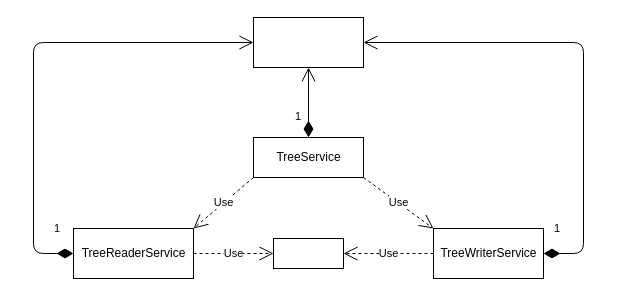
Image size: 618x296. Some labels were removed from this diagram. The shapes that lost their labels are listed below. From the top down, each one's centre as x and y in pixels, then its label:
point 308,42: «abstract» IStorage
point 308,253: NodeInfo
